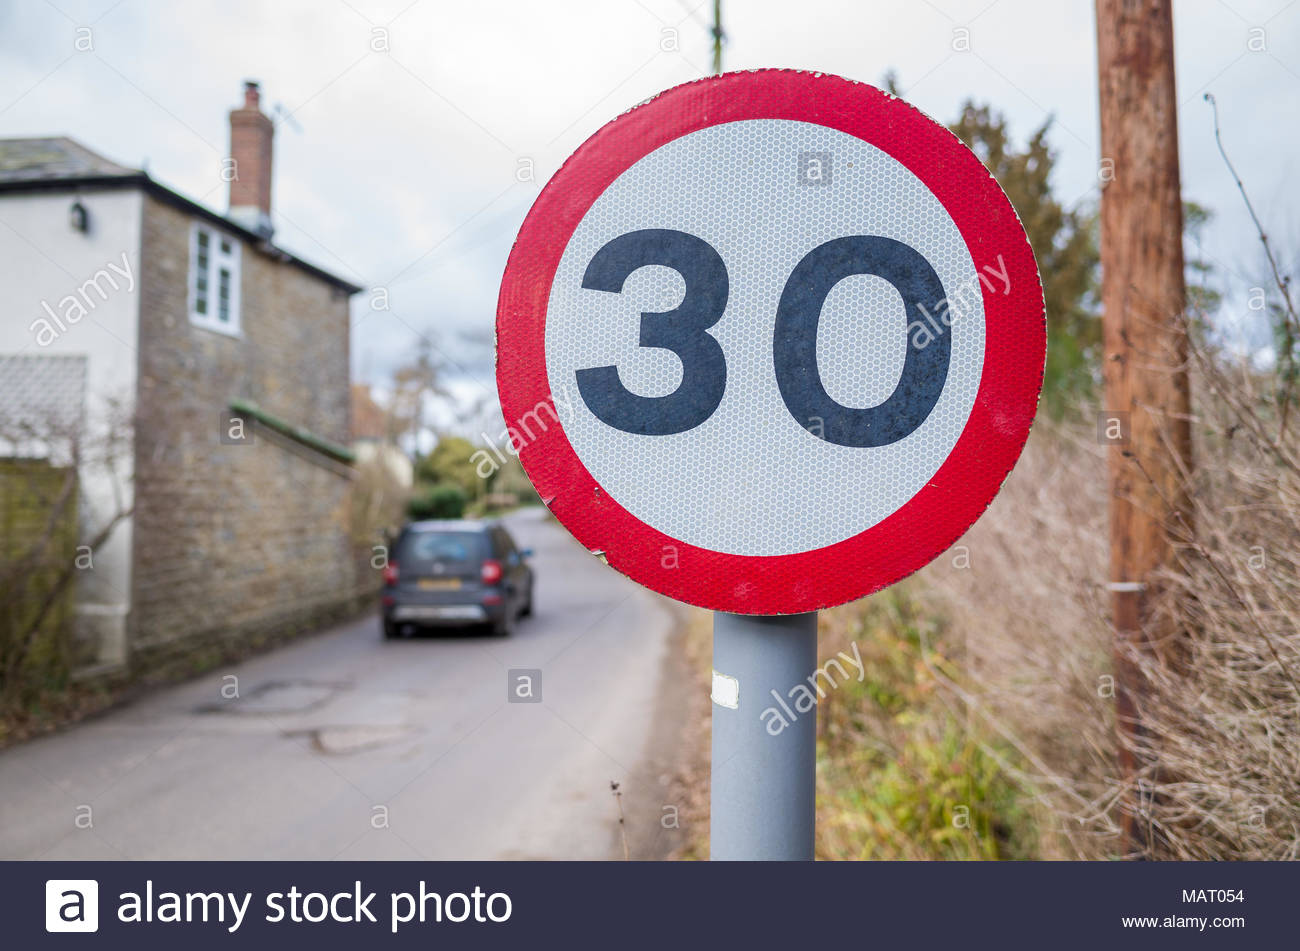speed_limit_30: (495, 65, 1047, 618)
